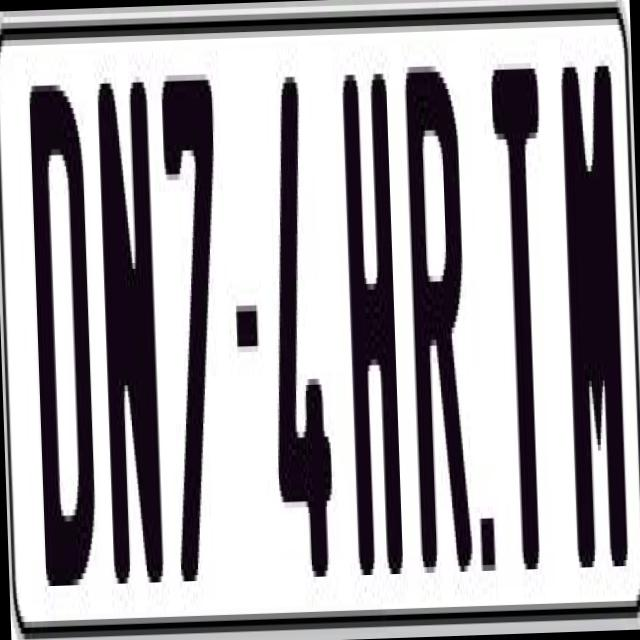4: (261, 64, 336, 578)
7: (158, 68, 228, 604)
D: (26, 78, 96, 580)
H: (340, 68, 408, 580)
M: (555, 48, 623, 561)
N: (92, 76, 160, 607)
R: (402, 59, 474, 573)
T: (489, 62, 561, 576)
